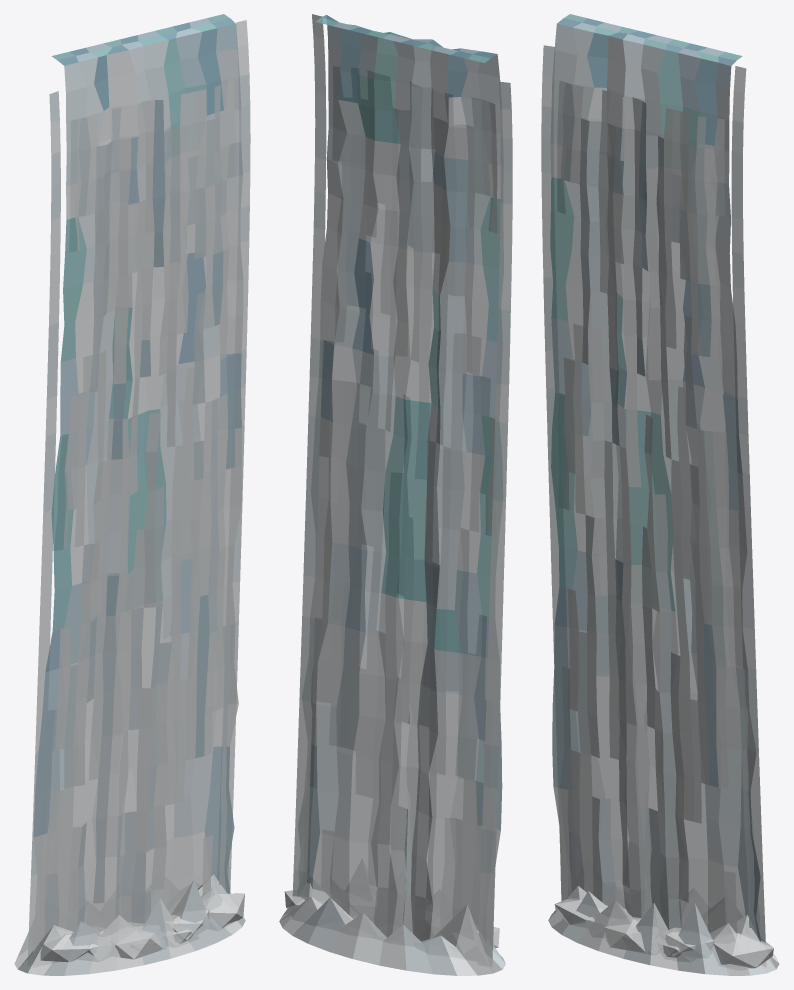
Rendered from wf_fall_tall.glb.
3 views of the same model, side by side, from view 1: azimuth 30°, elevation 25°; view 2: azimuth 150°, elevation 25°; view 3: azimuth 330°, elevation 25° (orthographic).
Visible parts, largest first — view 1: wf_fall_tall; view 2: wf_fall_tall; view 3: wf_fall_tall.
Boxes of the visible parts, left/top/right/bottom form: wf_fall_tall: left=14, top=14, right=250, bottom=975; wf_fall_tall: left=279, top=14, right=512, bottom=975; wf_fall_tall: left=541, top=14, right=779, bottom=975.
Size of the model in its own units: 10.42 by 40.63 by 4.5.
